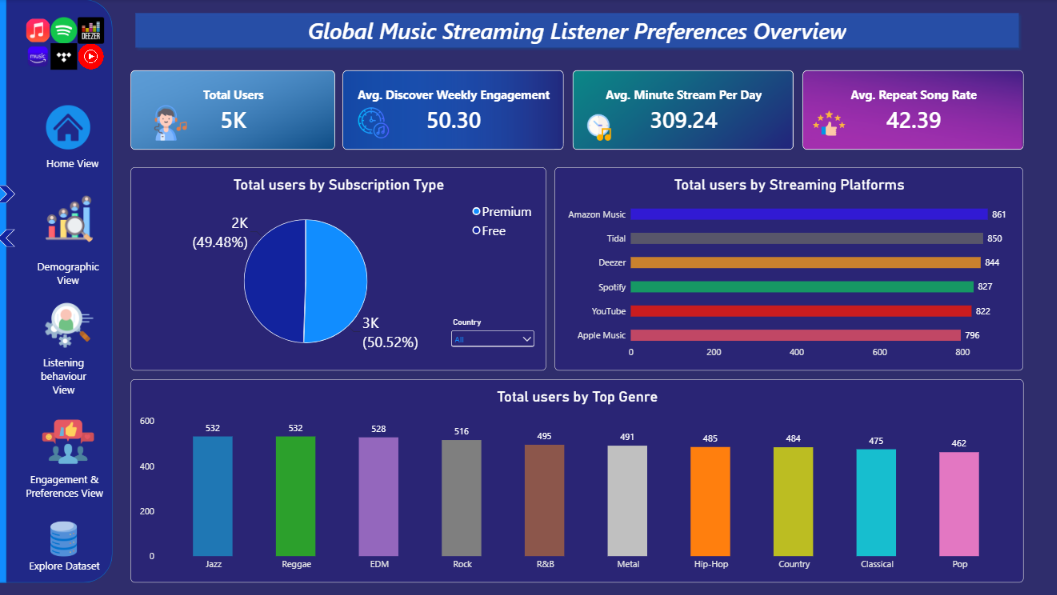

Layout of this report page (visuals, bound fields, positions):
{"tool":"powerbi","page":{"name":"Page 1","canvas":[1920,1080],"ordinal":0},"visuals":[{"type":"shape","box":[0,0,208,1056],"z":0},{"type":"cardVisual","fields":{"Data":["Global_Music_Streaming_Listener_Preferences.Total Users"]},"box":[240,128,370,144],"z":0,"group":"g1"},{"type":"cardVisual","fields":{"Data":["Global_Music_Streaming_Listener_Preferences.Avg. Discover Weekly Engagement"]},"box":[624,128,400,144],"z":0,"group":"g2"},{"type":"cardVisual","fields":{"Data":["Global_Music_Streaming_Listener_Preferences.Avg. Minute Stream Per Day"]},"box":[1040,128,400,144],"z":0,"group":"g3"},{"type":"cardVisual","fields":{"Data":["Global_Music_Streaming_Listener_Preferences.Avg Repeat Song Rate"]},"box":[1456,128,400,144],"z":0,"group":"g4"},{"type":"pieChart","title":"Total users by Subscription Type","fields":{"Y":["Global_Music_Streaming_Listener_Preferences.Total Users"],"Category":["Global_Music_Streaming_Listener_Preferences.Subscription Type"]},"box":[240,304,752,368],"z":0,"group":"g5"},{"type":"image","box":[256,192,112,64],"z":1000,"group":"g1"},{"type":"image","box":[624,192,112,64],"z":1000,"group":"g2"},{"type":"image","box":[1456,192,96,64],"z":1000,"group":"g4"},{"type":"image","box":[1040,208,96,48],"z":1000,"group":"g3"},{"type":"barChart","title":"Total users by Streaming Platforms ","fields":{"Y":["Global_Music_Streaming_Listener_Preferences.Total Users"],"Category":["Global_Music_Streaming_Listener_Preferences.Streaming Platform"]},"box":[1008,304,848,368],"z":1000},{"type":"slicer","fields":{"Values":["Global_Music_Streaming_Listener_Preferences.Country"]},"box":[816,576,160,64],"z":1000,"group":"g5"},{"type":"shape","box":[0,0,16,1056],"z":2000},{"type":"clusteredColumnChart","title":"Total users by Top Genre","fields":{"Y":["Global_Music_Streaming_Listener_Preferences.Total Users"],"Category":["Global_Music_Streaming_Listener_Preferences.Top Genre"]},"box":[240,688,1616,368],"z":3000},{"type":"shape","box":[240,16,1616,80],"z":4000},{"type":"image","box":[80,192,96,80],"z":10000},{"type":"group","id":"g1","title":"Group 1","box":[240,128,368,144],"z":21000},{"type":"group","id":"g2","title":"Group 2","box":[624,128,400,144],"z":22000},{"type":"group","id":"g3","title":"Group 3","box":[1040,128,400,144],"z":23000},{"type":"group","id":"g4","title":"Group 4","box":[1456,128,400,144],"z":24000},{"type":"image","box":[96,32,48,48],"z":25000},{"type":"image","box":[144,80,48,48],"z":26000},{"type":"image","box":[144,32,48,48],"z":27000},{"type":"image","box":[96,80,48,48],"z":28000},{"type":"image","box":[48,32,48,48],"z":29000},{"type":"image","box":[48,80,48,48],"z":30000},{"type":"group","id":"g5","title":"Group 5","box":[240,304,752,368],"z":31000},{"type":"image","box":[80,352,100,90],"z":32000},{"type":"image","box":[80,544,100,90],"z":33000},{"type":"image","box":[80,752,96,96],"z":34000},{"type":"image","box":[80,944,80,64],"z":35000},{"type":"shape","box":[64,464,128,64],"z":36000},{"type":"shape","box":[64,640,112,80],"z":37000},{"type":"shape","box":[48,848,144,64],"z":38000},{"type":"shape","box":[80,272,112,48],"z":39000},{"type":"shape","box":[0,416,32,32],"z":40000},{"type":"shape","box":[0,336,32,32],"z":41000},{"type":"shape","box":[48,992,144,64],"z":47000}]}

Visuals, with their boxes in screenshot pixels (x1, y1, x2, y2):
shape: [left=3, top=22, right=112, bottom=575]
cardVisual - Global_Music_Streaming_Listener_Preferences.Total Users: [left=128, top=89, right=322, bottom=164]
cardVisual - Global_Music_Streaming_Listener_Preferences.Avg. Discover Weekly Engagement: [left=330, top=89, right=539, bottom=164]
cardVisual - Global_Music_Streaming_Listener_Preferences.Avg. Minute Stream Per Day: [left=547, top=89, right=757, bottom=164]
cardVisual - Global_Music_Streaming_Listener_Preferences.Avg Repeat Song Rate: [left=765, top=89, right=975, bottom=164]
"Total users by Subscription Type" pieChart: [left=128, top=181, right=522, bottom=374]
image: [left=137, top=123, right=195, bottom=156]
image: [left=330, top=123, right=388, bottom=156]
image: [left=765, top=123, right=815, bottom=156]
image: [left=547, top=131, right=598, bottom=156]
"Total users by Streaming Platforms " barChart: [left=531, top=181, right=975, bottom=374]
slicer - Global_Music_Streaming_Listener_Preferences.Country: [left=430, top=324, right=514, bottom=357]
shape: [left=3, top=22, right=11, bottom=575]
"Total users by Top Genre" clusteredColumnChart: [left=128, top=382, right=975, bottom=575]
shape: [left=128, top=30, right=975, bottom=72]
image: [left=45, top=123, right=95, bottom=164]
"Group 1" group: [left=128, top=89, right=321, bottom=164]
"Group 2" group: [left=330, top=89, right=539, bottom=164]
"Group 3" group: [left=547, top=89, right=757, bottom=164]
"Group 4" group: [left=765, top=89, right=975, bottom=164]
image: [left=53, top=39, right=78, bottom=64]
image: [left=78, top=64, right=103, bottom=89]
image: [left=78, top=39, right=103, bottom=64]
image: [left=53, top=64, right=78, bottom=89]
image: [left=28, top=39, right=53, bottom=64]
image: [left=28, top=64, right=53, bottom=89]
"Group 5" group: [left=128, top=181, right=522, bottom=374]
image: [left=45, top=206, right=97, bottom=253]
image: [left=45, top=307, right=97, bottom=354]
image: [left=45, top=416, right=95, bottom=466]
image: [left=45, top=516, right=87, bottom=550]
shape: [left=36, top=265, right=103, bottom=299]
shape: [left=36, top=357, right=95, bottom=399]
shape: [left=28, top=466, right=103, bottom=500]
shape: [left=45, top=164, right=103, bottom=190]
shape: [left=3, top=240, right=20, bottom=257]
shape: [left=3, top=198, right=20, bottom=215]
shape: [left=28, top=541, right=103, bottom=575]
